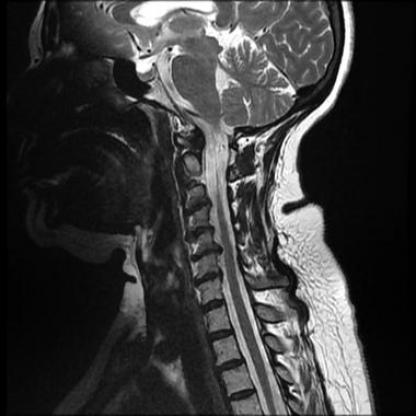Disc Protrusionrotation: (179, 202, 212, 218), (184, 225, 215, 241), (190, 272, 225, 286), (187, 249, 221, 262)
Osteophytesrotation: (184, 224, 215, 240), (179, 202, 212, 217), (190, 271, 225, 285), (187, 249, 221, 262)
